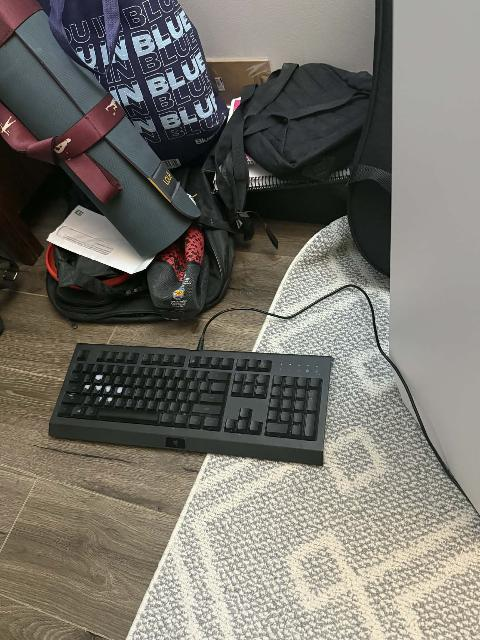ahkeyboard: (38, 338, 341, 471)
